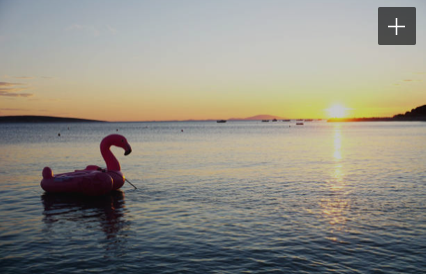Flamingo: (39, 133, 134, 201)
